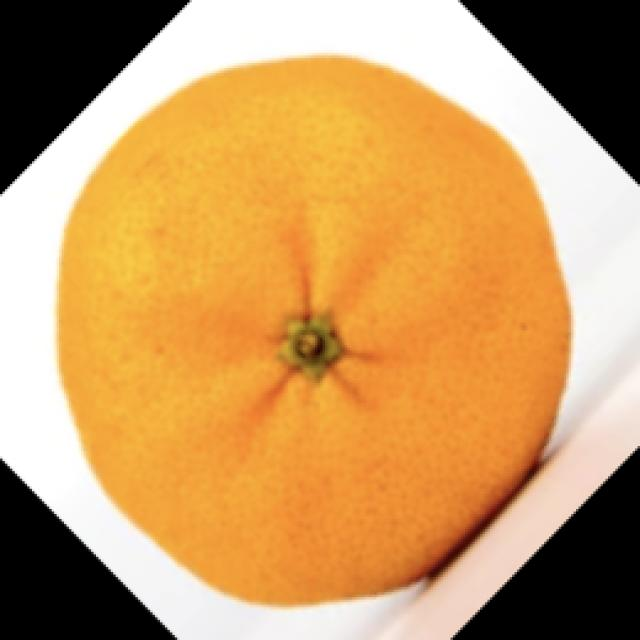fresh: (40, 47, 603, 614)
